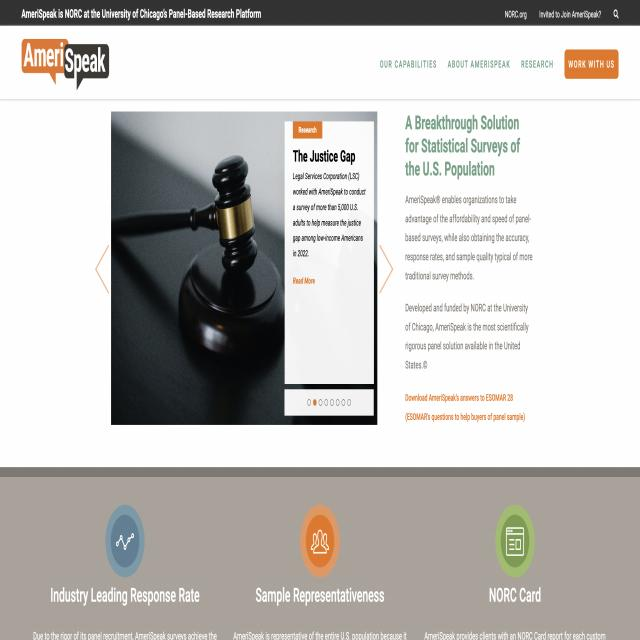Logo: (15, 31, 120, 92)
Navigation: (372, 39, 632, 90)
